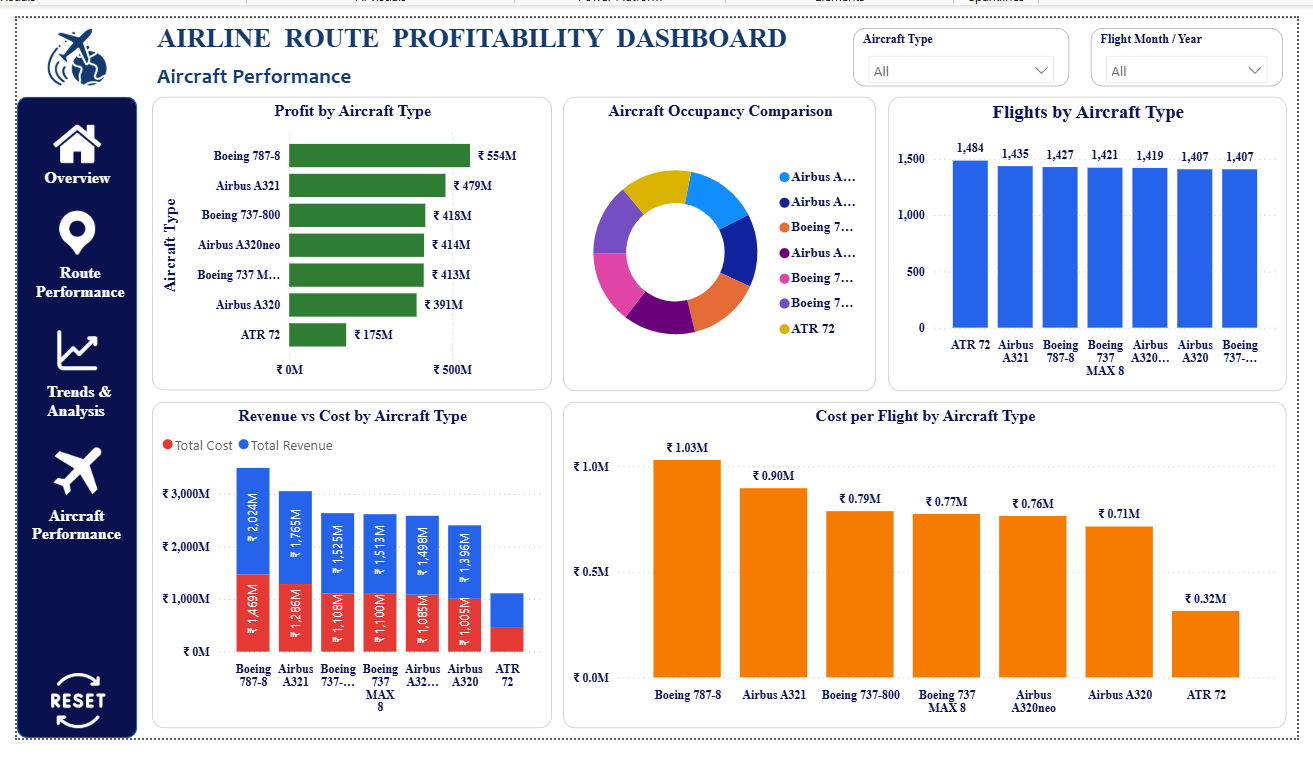

The dashboard page shown, as its layout file describes it:
{"tool":"powerbi","page":{"name":"Aircraft Performance","canvas":[1280,720],"ordinal":3},"visuals":[{"type":"shape","box":[0,78.8,120,641.2],"z":0},{"type":"image","box":[17.5,10,85,58.8],"z":1000},{"type":"textbox","box":[135,0,646.2,40],"z":2000},{"type":"barChart","title":"Profit by Aircraft Type","fields":{"Category":["AirlineRoutesData.Aircrafttype"],"Y":["Measure.Total Profit"]},"box":[135,78.8,400,293.8],"z":3000},{"type":"donutChart","title":"Aircraft Occupancy Comparison ","fields":{"Category":["AirlineRoutesData.Aircrafttype"],"Y":["Measure.Avg Occupancy %"]},"box":[546.8,79.4,313.1,294.3],"z":4000},{"type":"columnChart","title":"Flights by Aircraft Type","fields":{"Category":["AirlineRoutesData.Aircrafttype"],"Y":["Measure.Total Flights"]},"box":[871.4,79.4,398.2,294.3],"z":5000},{"type":"columnChart","title":"Revenue vs Cost by Aircraft Type","fields":{"Category":["AirlineRoutesData.Aircrafttype"],"Y":["Measure.Total Cost","Measure.Total Revenue"]},"box":[135.6,383.8,399.6,326.1],"z":6000},{"type":"clusteredColumnChart","title":"Cost per Flight by Aircraft Type","fields":{"Category":["AirlineRoutesData.Aircrafttype"],"Y":["Measure.Cost Per Flight"]},"box":[546.8,383.8,722.8,326.1],"z":7000},{"type":"slicer","title":"Aircraft Type","fields":{"Values":["AirlineRoutesData.Aircrafttype"]},"box":[836.6,9.6,215.7,58.7],"z":8000},{"type":"slicer","title":"Flight Month / Year","fields":{"Values":["AirlineRoutesData.Month Year"]},"box":[1073.9,9.6,191.8,58.7],"z":9000},{"type":"textbox","box":[135.4,39.6,237.3,38.4],"z":10000},{"type":"image","box":[36,98.3,47.9,53.9],"z":10001},{"type":"image","box":[36,187,47.9,53.9],"z":10002},{"type":"image","box":[36,305.6,47.9,53.9],"z":10003},{"type":"image","box":[36,426.7,47.9,53.9],"z":10004},{"type":"textbox","box":[13.2,146.2,93.5,40.7],"z":10005},{"type":"textbox","box":[13.2,240.9,103.1,50.3],"z":10006},{"type":"textbox","box":[25.2,359.6,86.3,57.5],"z":10007},{"type":"textbox","box":[9.6,484.2,103.1,65.9],"z":10008},{"type":"image","box":[32.4,655.6,57.5,55.1],"z":10009}]}

Visuals, with their boxes on the page's 1280x720 design canvas (x1, y1, x2, y2). These are canvas units, not pixel positions in the 1313x757 screenshot, which may show the page scaled, cropped or inside an application window:
shape: box=[0, 79, 120, 720]
image: box=[18, 10, 102, 69]
textbox: box=[135, 0, 781, 40]
"Profit by Aircraft Type" barChart: box=[135, 79, 535, 373]
"Aircraft Occupancy Comparison " donutChart: box=[547, 79, 860, 374]
"Flights by Aircraft Type" columnChart: box=[871, 79, 1270, 374]
"Revenue vs Cost by Aircraft Type" columnChart: box=[136, 384, 535, 710]
"Cost per Flight by Aircraft Type" clusteredColumnChart: box=[547, 384, 1270, 710]
"Aircraft Type" slicer: box=[837, 10, 1052, 68]
"Flight Month / Year" slicer: box=[1074, 10, 1266, 68]
textbox: box=[135, 40, 373, 78]
image: box=[36, 98, 84, 152]
image: box=[36, 187, 84, 241]
image: box=[36, 306, 84, 360]
image: box=[36, 427, 84, 481]
textbox: box=[13, 146, 107, 187]
textbox: box=[13, 241, 116, 291]
textbox: box=[25, 360, 112, 417]
textbox: box=[10, 484, 113, 550]
image: box=[32, 656, 90, 711]
